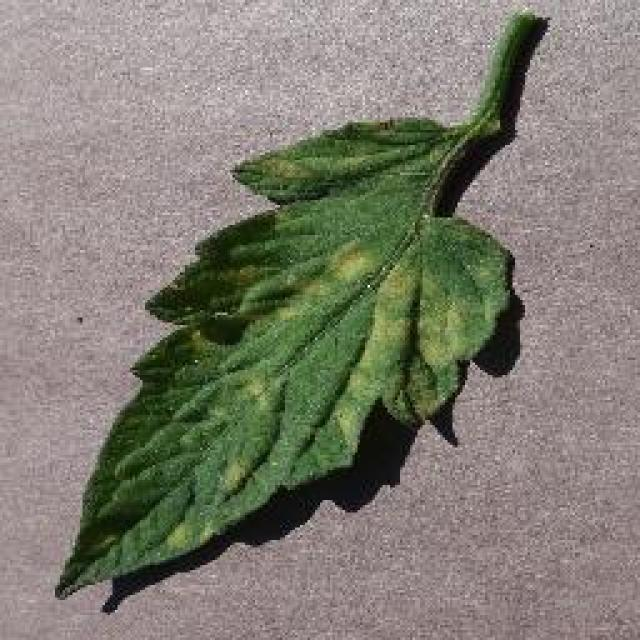Tomato___Leaf_Mold: (55, 12, 538, 595)
